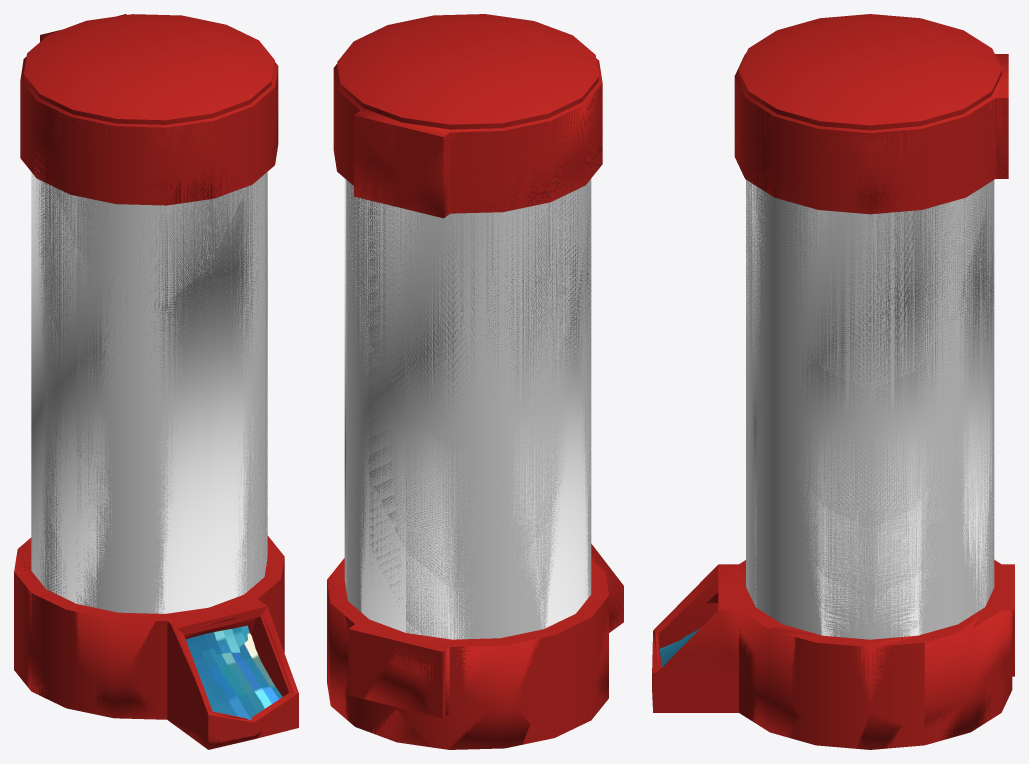
Rendered from Mdl_Feeder.fbx.
3 views of the same model, side by side, from view 1: azimuth 30°, elevation 25°; view 2: azimuth 150°, elevation 25°; view 3: azimuth 270°, elevation 25° (orthographic). The views are drawn at different scales.
Visible parts, largest first — view 1: feeder seeds, feeder water; view 2: feeder seeds, feeder water; view 3: feeder seeds, feeder water.
Part boxes in pixels (x1,y1,x2,y2): feeder seeds: [14, 14, 298, 744]; feeder water: [17, 14, 298, 749]; feeder seeds: [327, 14, 623, 749]; feeder water: [327, 58, 623, 749]; feeder seeds: [652, 14, 1014, 748]; feeder water: [653, 53, 1013, 749].
Bounding box in the file's own units: 34.14 × 84.17 × 43.6.
4 materials, 2 textured.
